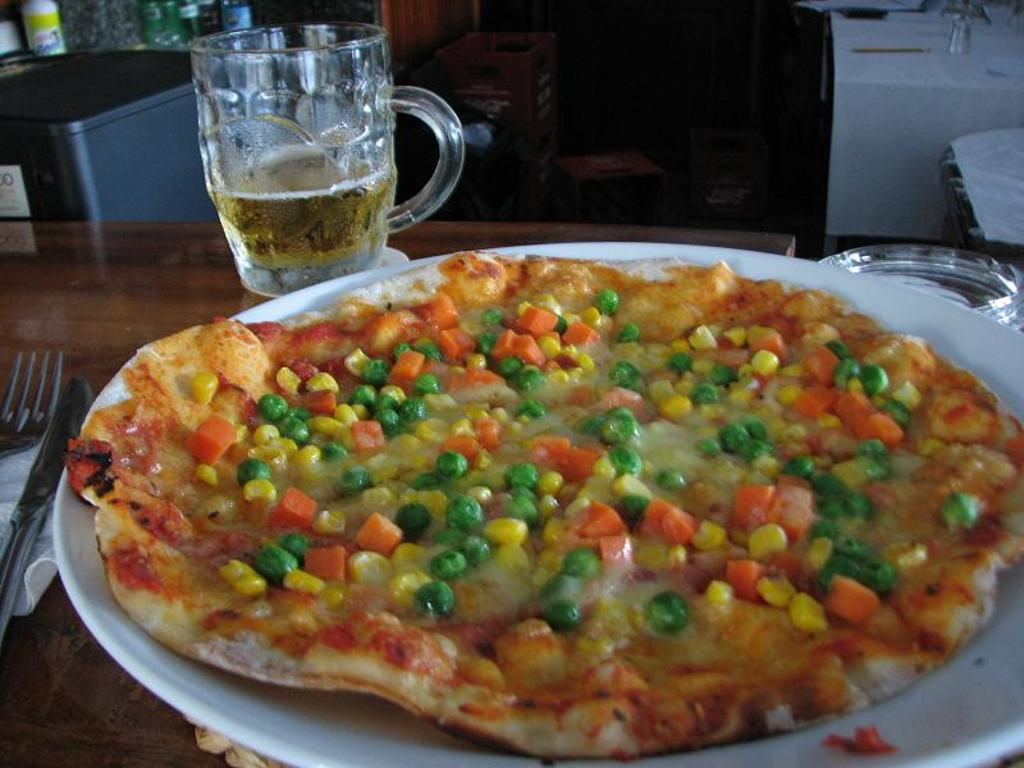Pizza: (53, 259, 1024, 768)
